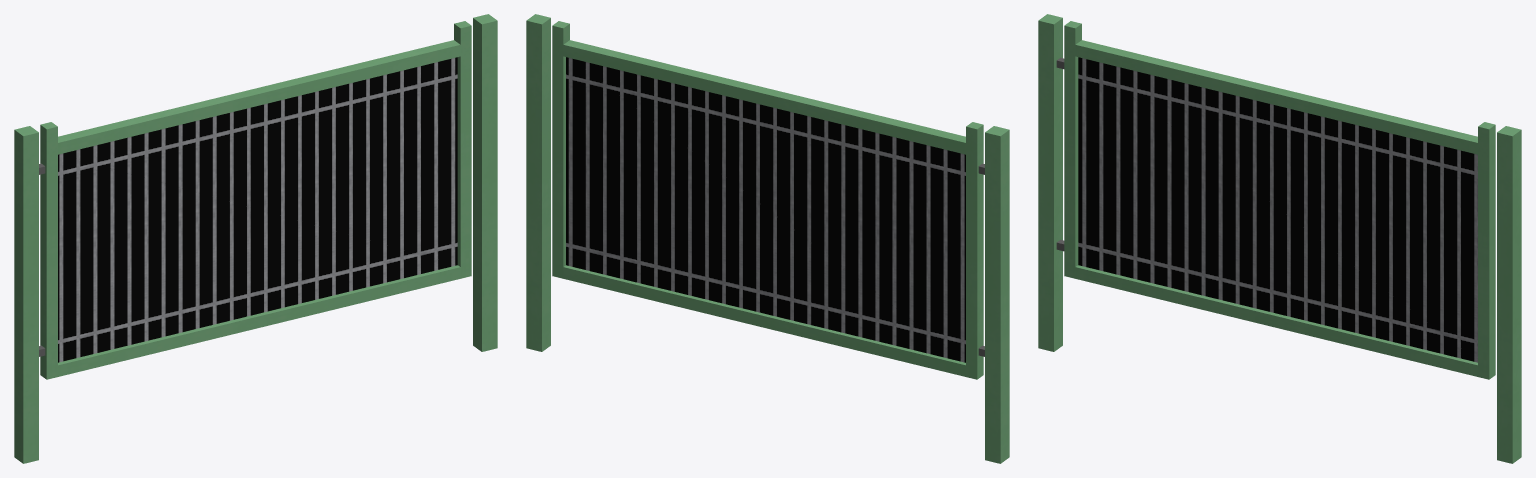
File: fence-mesh-gate-2m-cbj_LOD00.gltf
The picture shows the model from 3 angles, left to right: view 1: azimuth 30°, elevation 25°; view 2: azimuth 150°, elevation 25°; view 3: azimuth 330°, elevation 25°; orthographic projection.
Parts seen in each view (by area): view 1: post; view 2: post; view 3: post.
Part boxes in pixels (bbox=[...]): post: bbox=[14, 14, 497, 463]; post: bbox=[526, 14, 1009, 463]; post: bbox=[1038, 14, 1521, 463].
Size of the model in its own units: 2.12 by 1.4 by 0.07.
